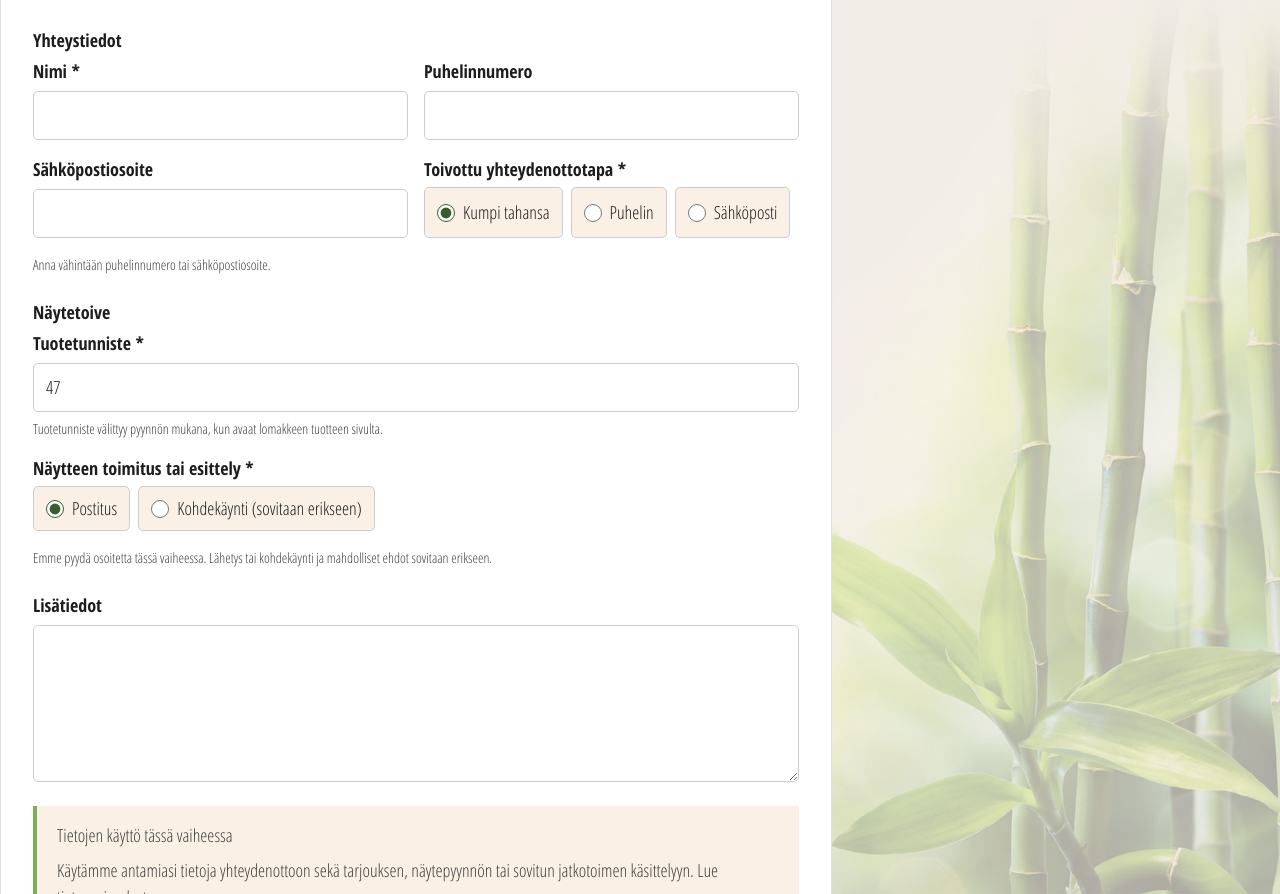
Scenario: inquiry form interaction states › keeps a sample request intact and gives the phone fallback when Telegram is unconfigured
In the field labelled "Nimi *": (220, 116) [33,91,408,140], type "Liisa Laine"
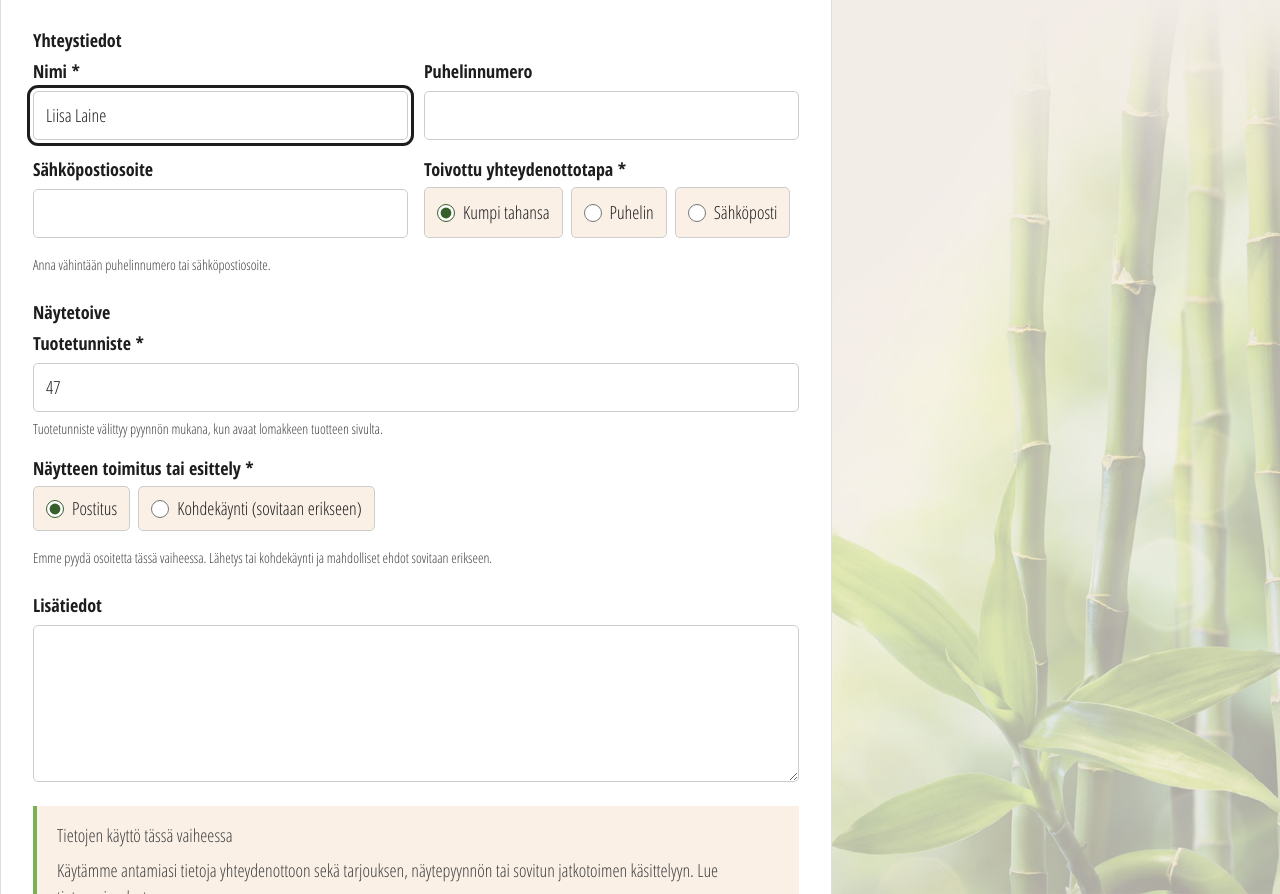
In the field labelled "Puhelinnumero": (612, 116) [424,91,799,140], type "+358 50 123 4567"
(page scrolled)
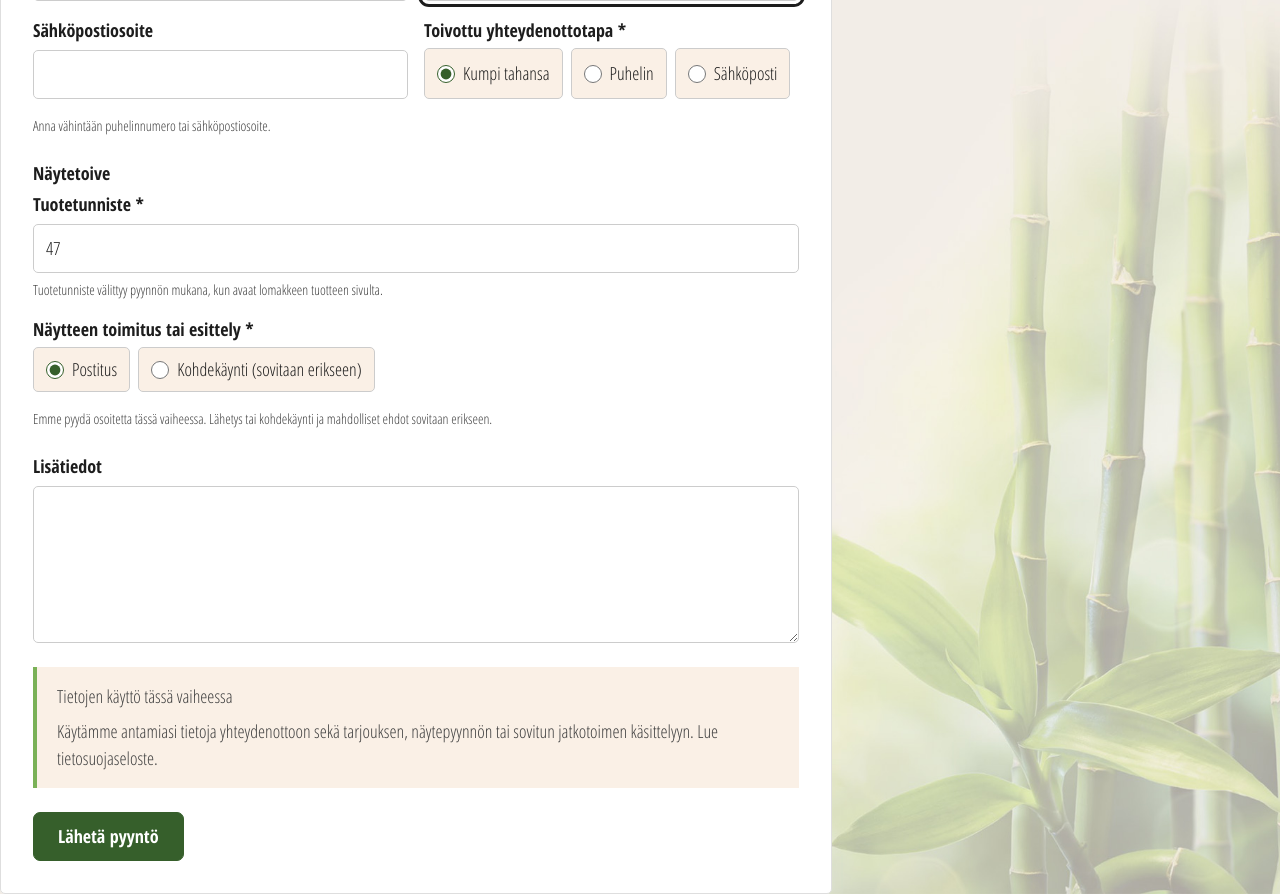
Click the button "Lähetä pyyntö": (108, 836) [33,812,184,861]
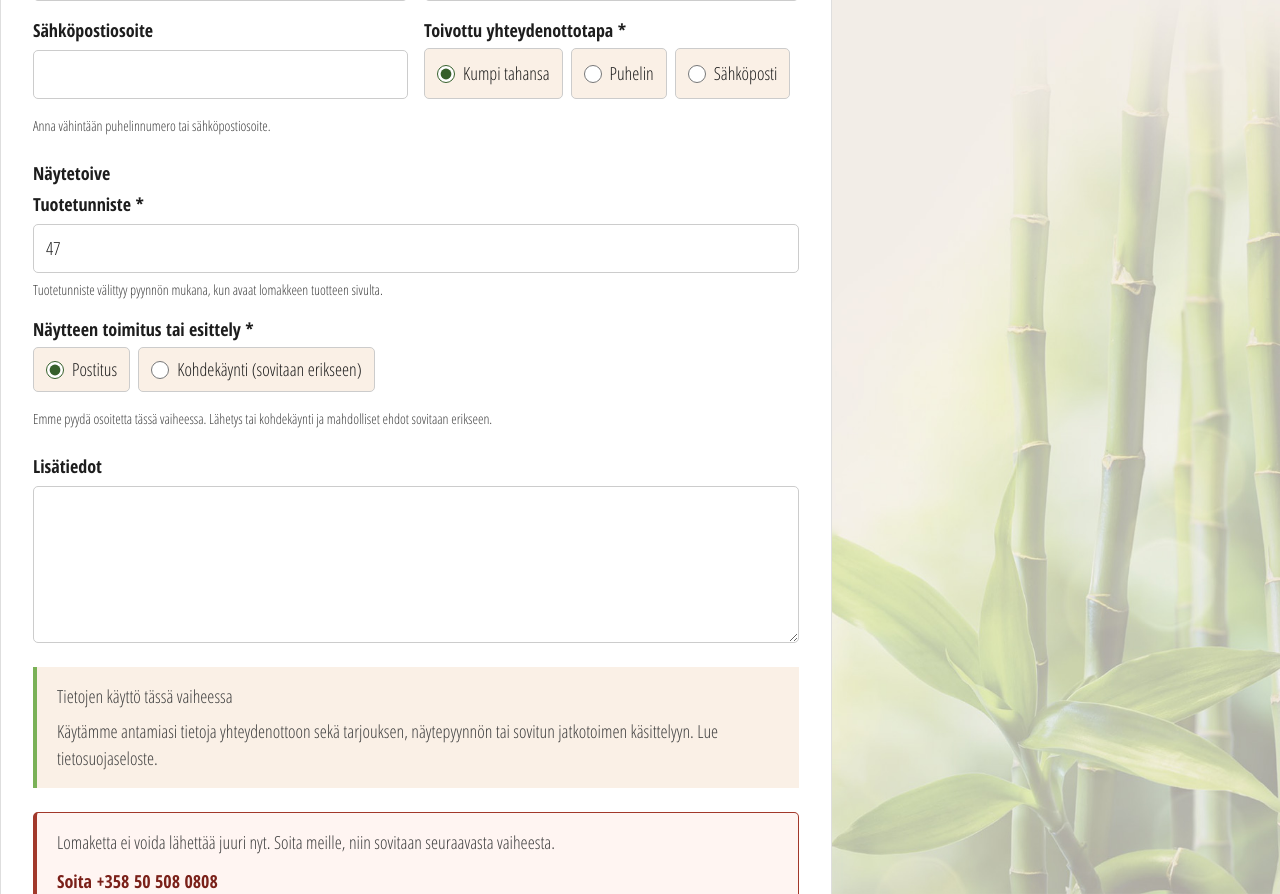
Expected: the field labelled "Tuotetunniste *" holds "47", [33,224,799,273]
Expected: the message shows "ei voida lähettää juuri nyt", [57,830,555,854]
